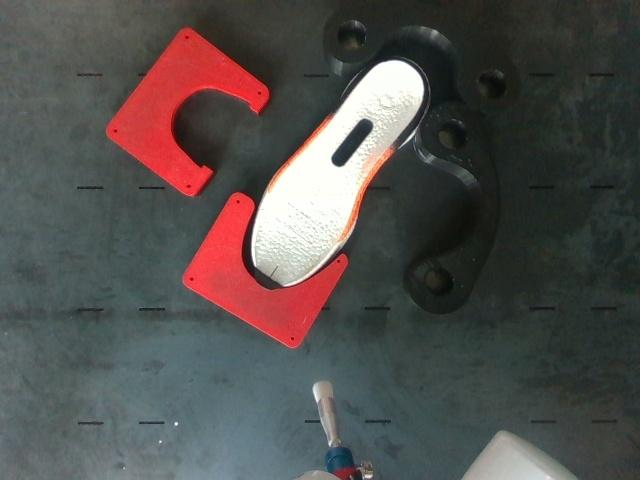shoes: (255, 60, 425, 288)
